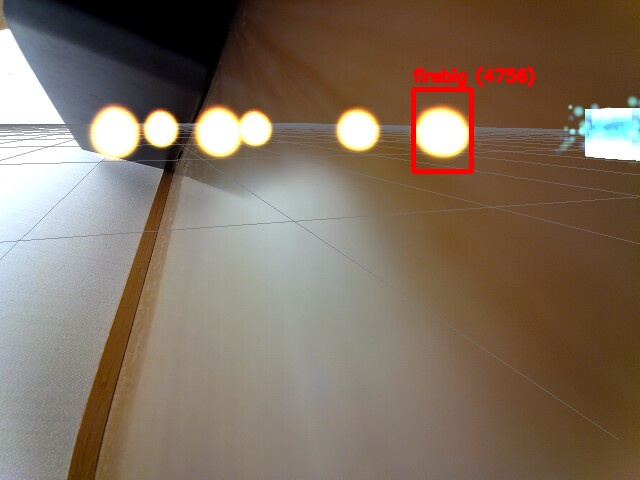firebig: (413, 89, 471, 171)
